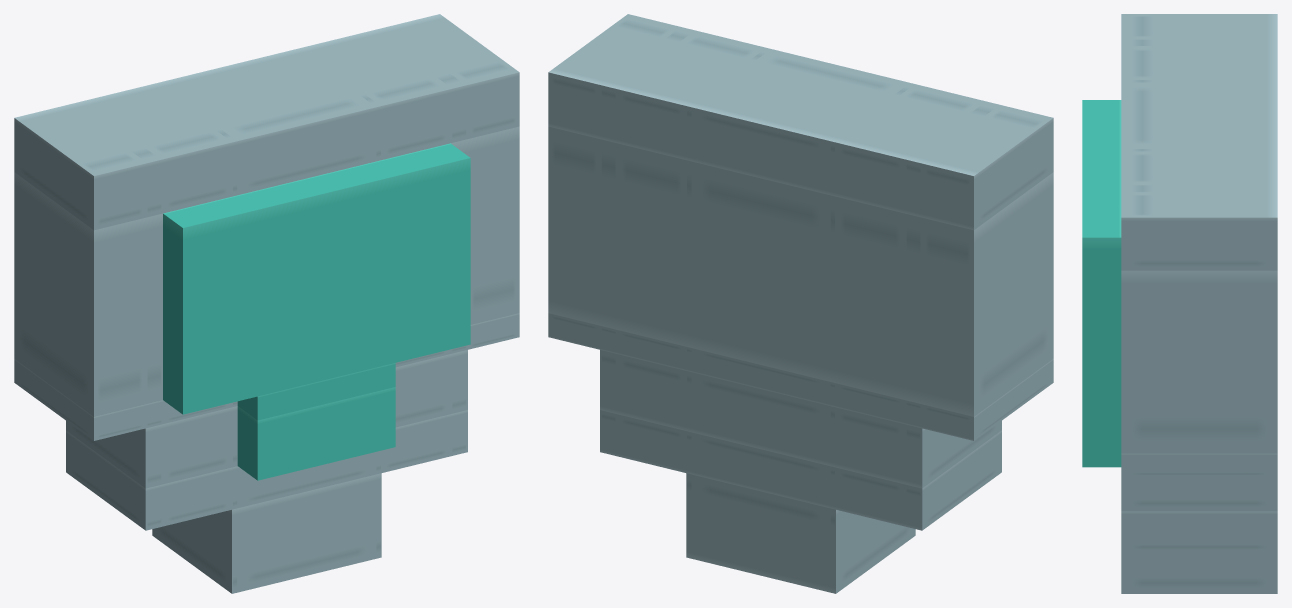
File: sc_pickup_shield.obj
The picture shows the model from 3 angles, left to right: view 1: azimuth 30°, elevation 25°; view 2: azimuth 150°, elevation 25°; view 3: azimuth 270°, elevation 25°; orthographic projection. The views are drawn at different scales.
Bounding box in the file's own units: 7.4 × 7.5 × 3.
1 material, 1 textured.
